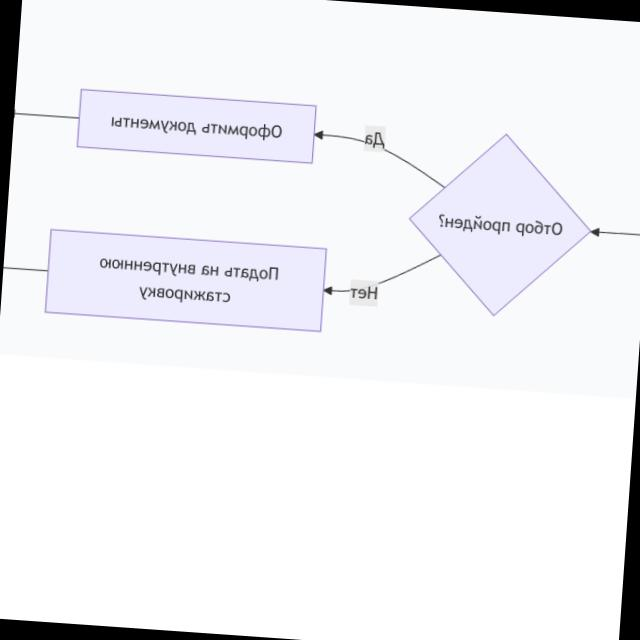arrow: (311, 130, 448, 188), (323, 246, 441, 304), (587, 224, 640, 242)
diamond: (402, 126, 596, 324)
text_region: (348, 278, 378, 304), (364, 125, 386, 152)
